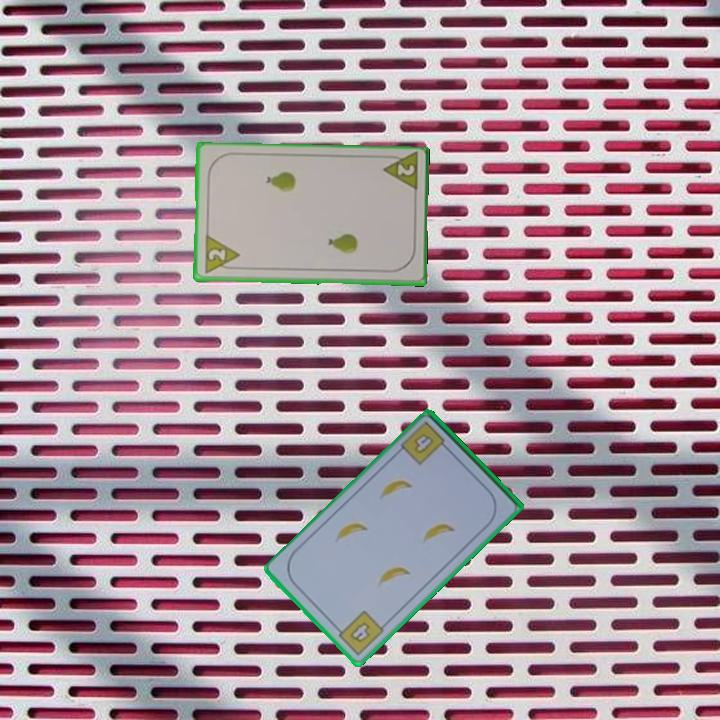2p: (200, 233, 242, 277), (379, 151, 420, 195)
4b: (331, 607, 387, 659), (397, 418, 453, 468)
